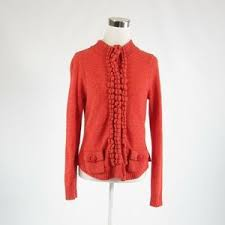S_cardigan sweater: (57, 31, 165, 212)
